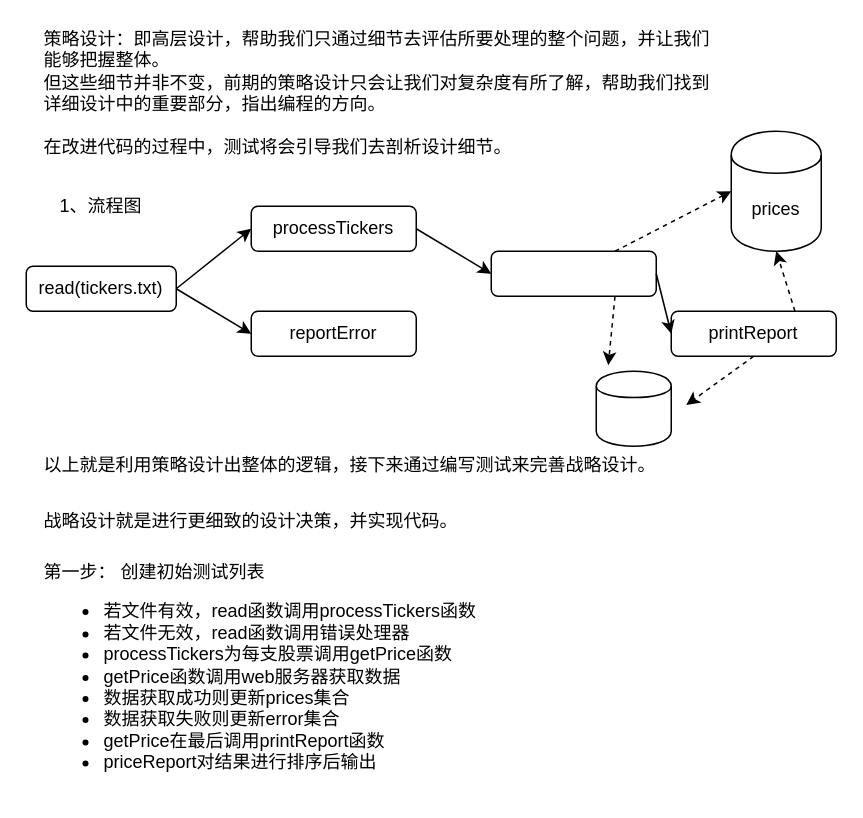
Image size: 863x818. Some labels were removed from this diagram. The centre of each missing label's shape, as x and y in pixels:
"error" goes at pixel 633 408.
"getPrice" goes at pixel 573 273.
